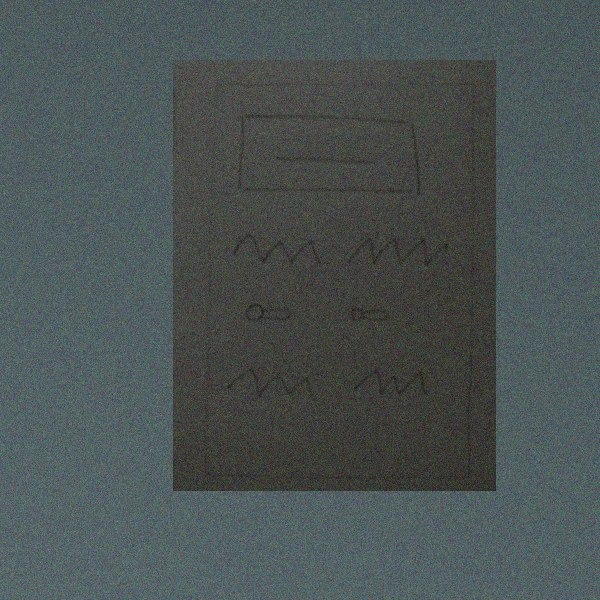button: (236, 105, 430, 200)
switch: (228, 289, 302, 333), (340, 299, 402, 337)
text: (342, 225, 451, 275), (224, 361, 319, 411), (226, 225, 325, 271), (341, 356, 435, 402)
